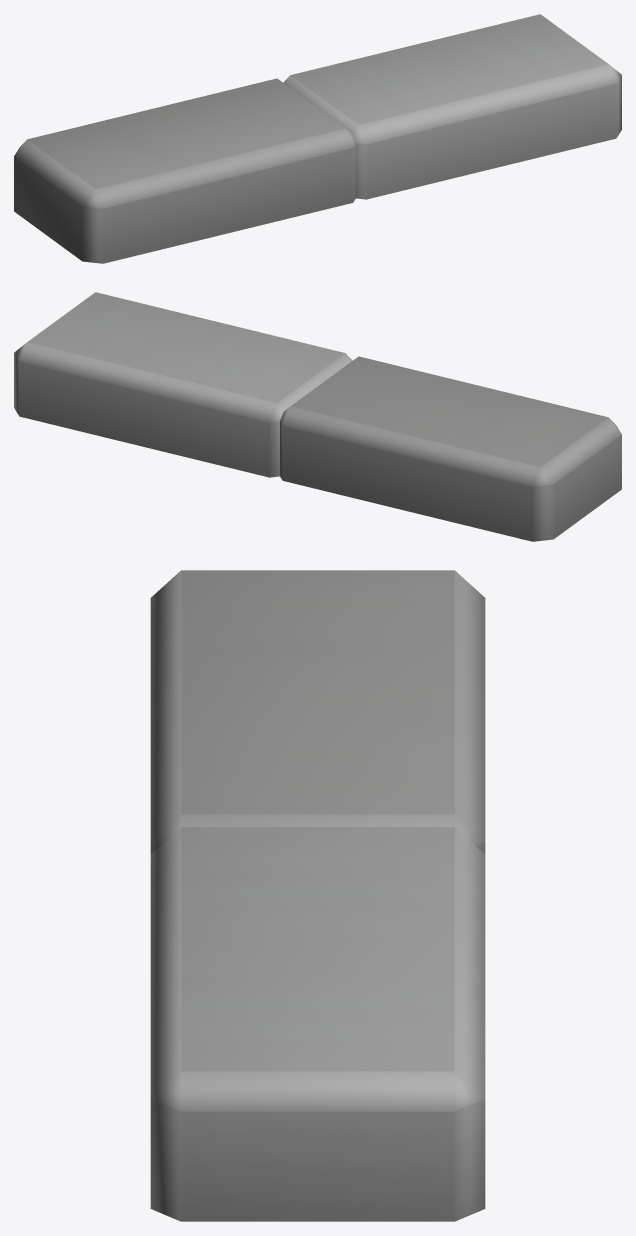
Rendered from floor_divider_double.fbx.
3 views of the same model, one above another, from view 1: azimuth 30°, elevation 25°; view 2: azimuth 150°, elevation 25°; view 3: azimuth 270°, elevation 25° (orthographic). The views are drawn at different scales.
Visible parts, largest first — view 1: floor_divider_double; view 2: floor_divider_double; view 3: floor_divider_double.
Part boxes in pixels (x1,y1,x2,y2): floor_divider_double: (14, 14, 621, 263); floor_divider_double: (14, 292, 621, 541); floor_divider_double: (150, 570, 485, 1221).
Size of the model in its own units: 205 by 25 by 55.
